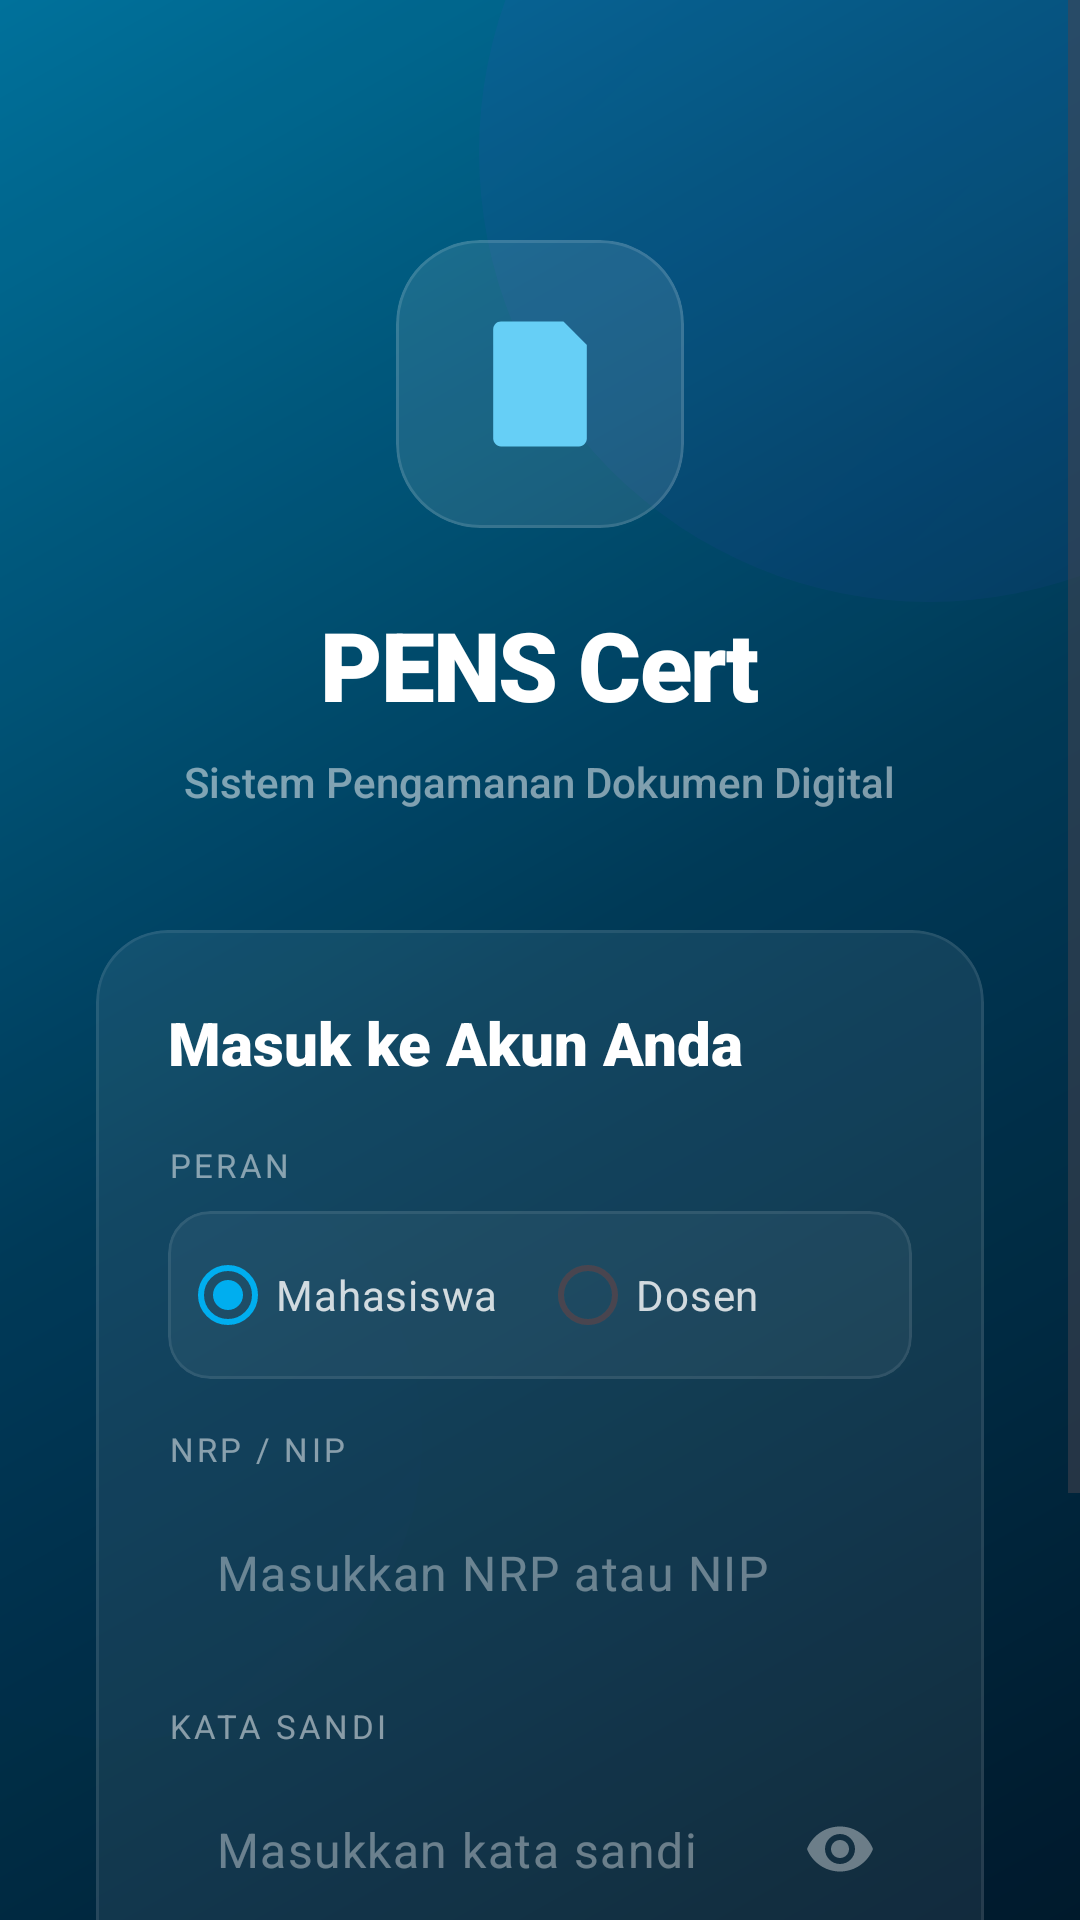

Icon bounding boxes for this 1080w x 1920h phone screenshot, format (x1, y1, x2, y2):
pens doc: (396, 240, 684, 528)
